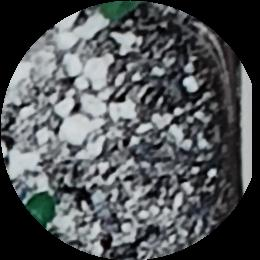Basil: (24, 187, 59, 230)
